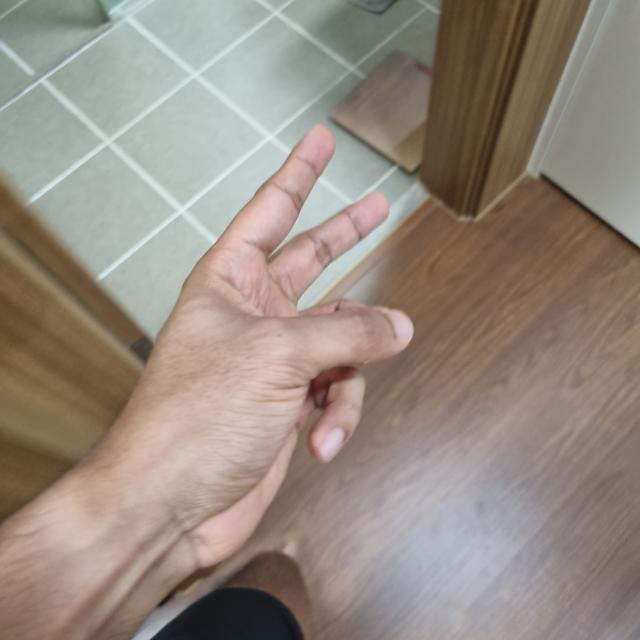Scissors: (105, 133, 413, 565)
